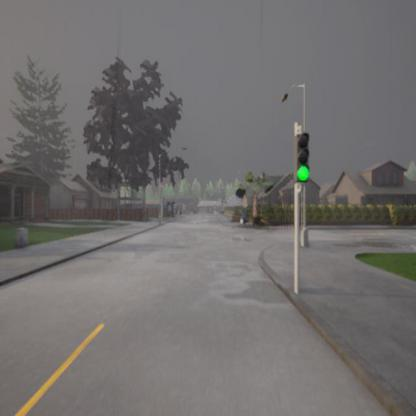traffic_light_green: (297, 133, 311, 182)
